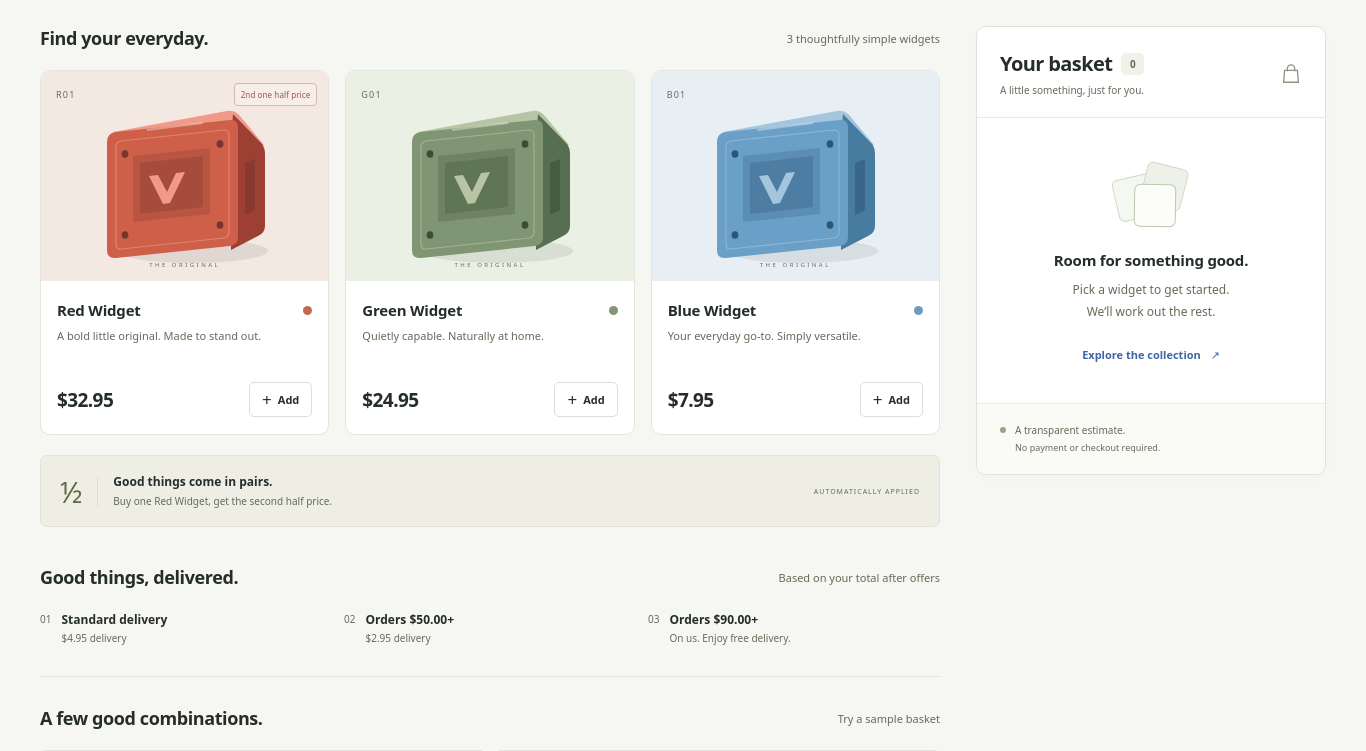
storefront › decreases quantities, removes one item, and clears the basket
(page scrolled)
Expected: the heading "Find your everyday." is shown, [40, 26, 208, 50]
Click the button with aria-label "Add Red Widget to basket" at point(281, 400), box [249, 382, 312, 417]
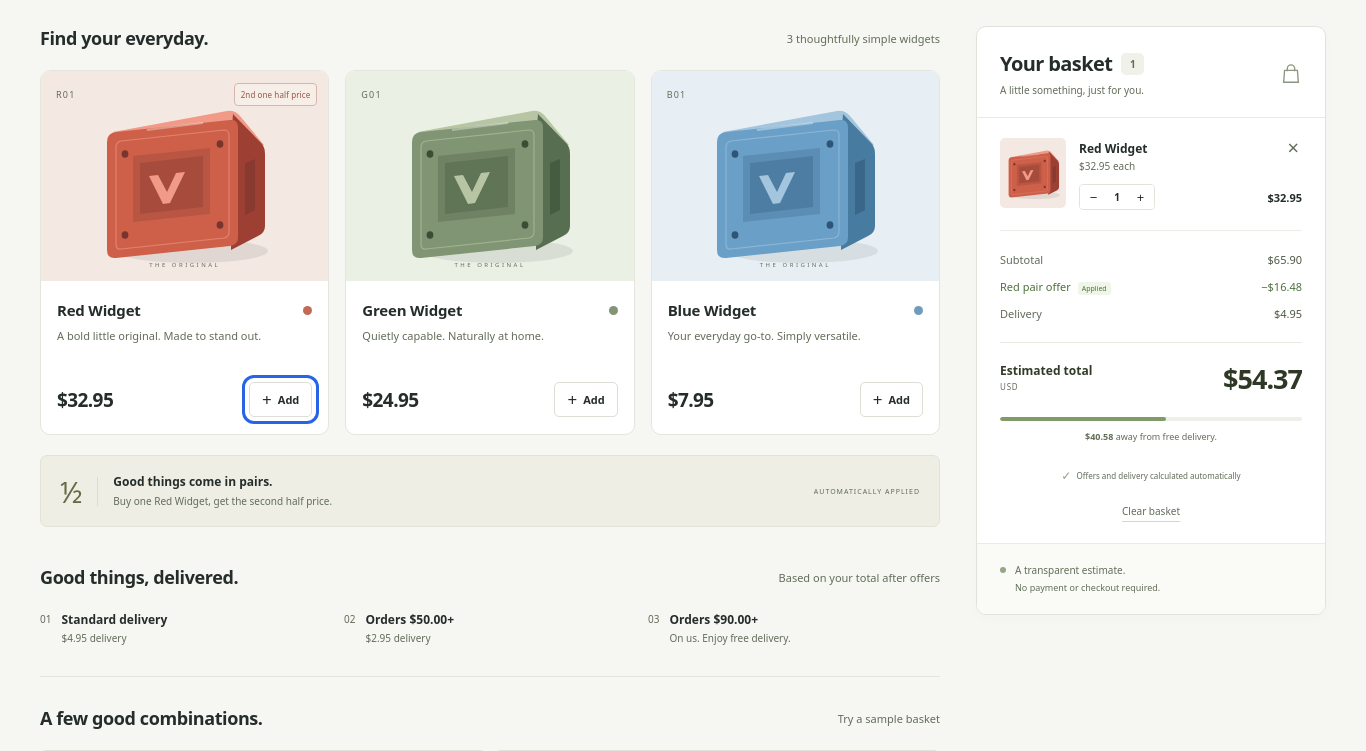
Click the button with aria-label "Add Green Widget to basket" at point(586, 400), box [554, 382, 618, 417]
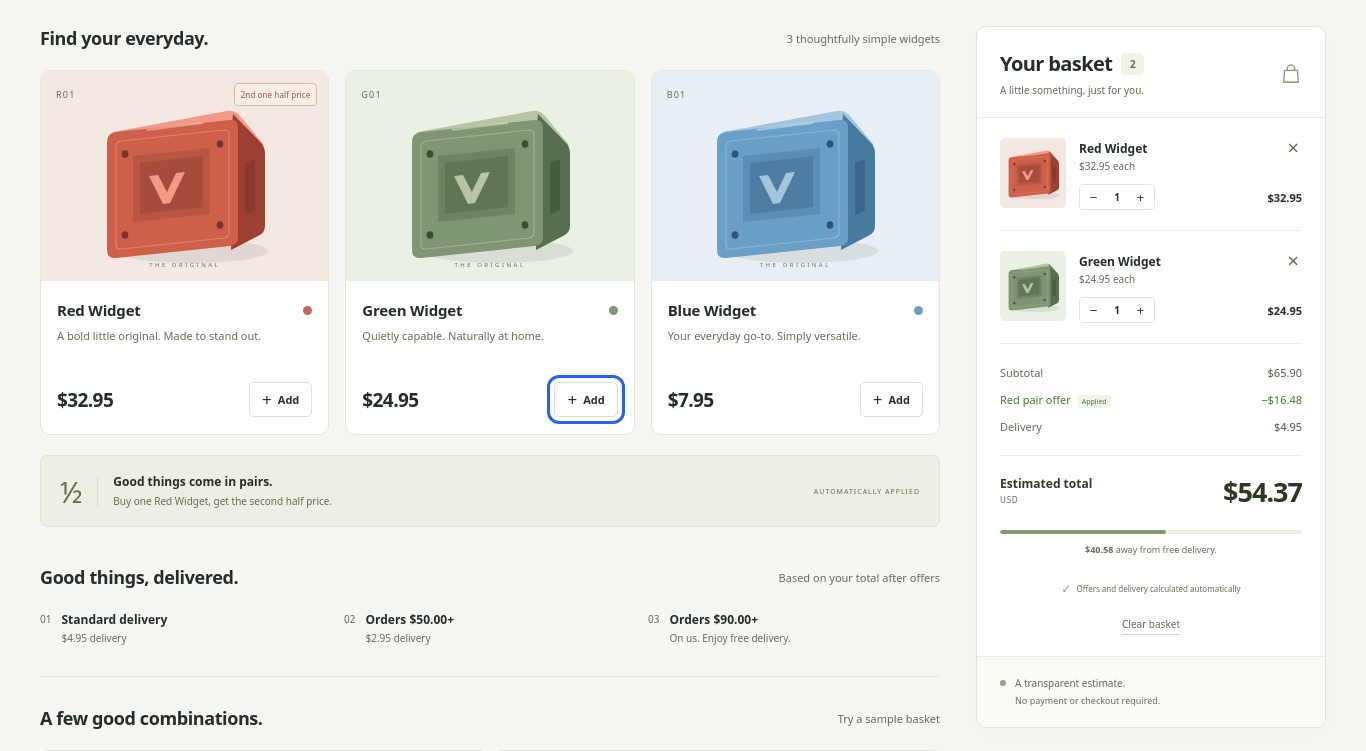
Click the button named "Increase Red Widget quantity" at point(1140, 197), box [1127, 184, 1154, 210]
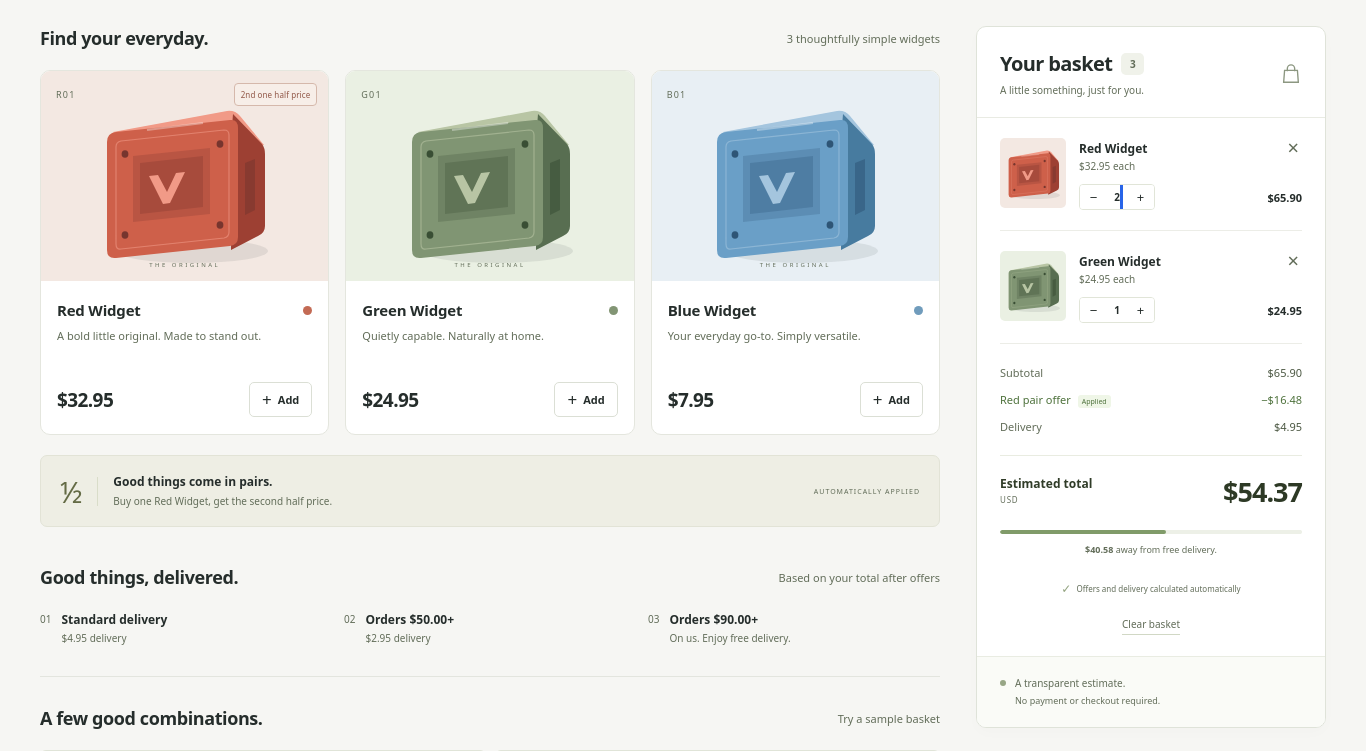
Click the button named "Decrease Red Widget quantity" at point(1094, 197), box [1080, 184, 1107, 210]
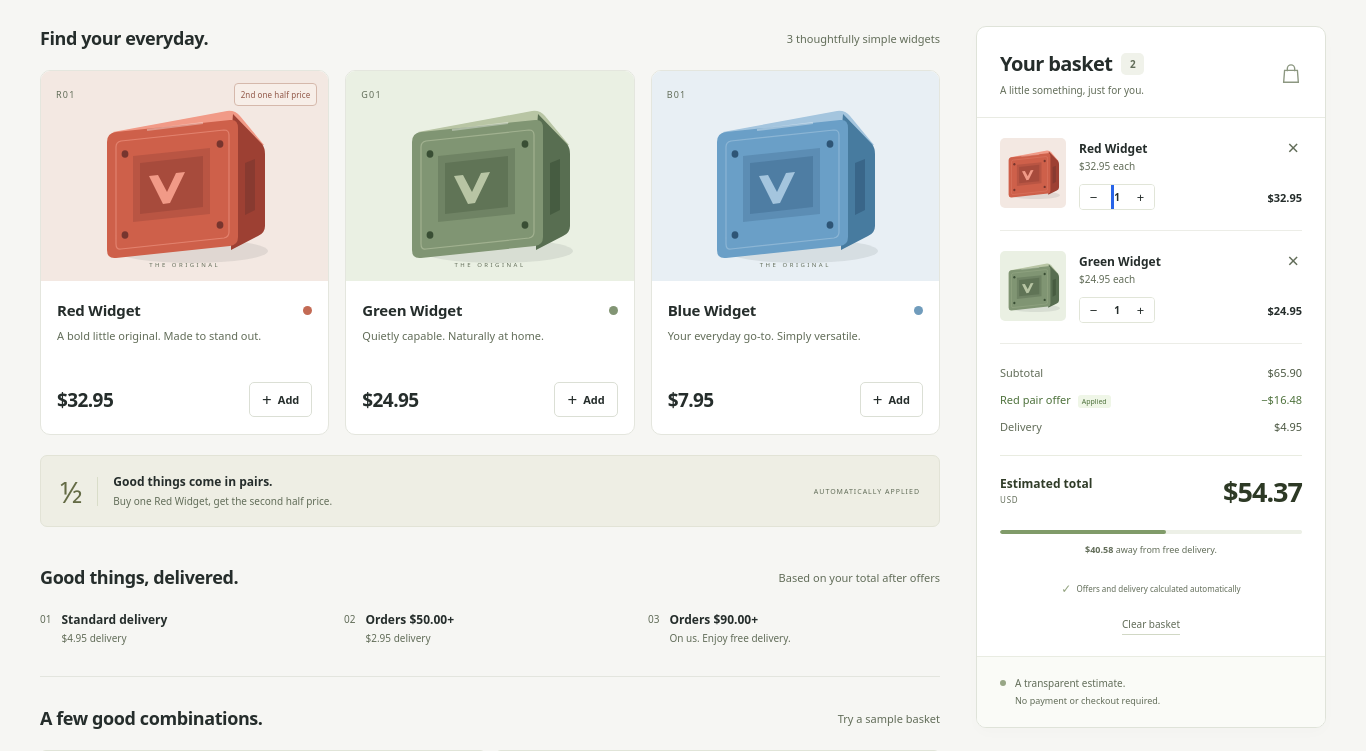
Expected: the text named "Red Widget quantity" reads "1", [1114, 190, 1120, 204]
Click the button named "Remove Red Widget" at point(1293, 148), box [1284, 138, 1302, 158]
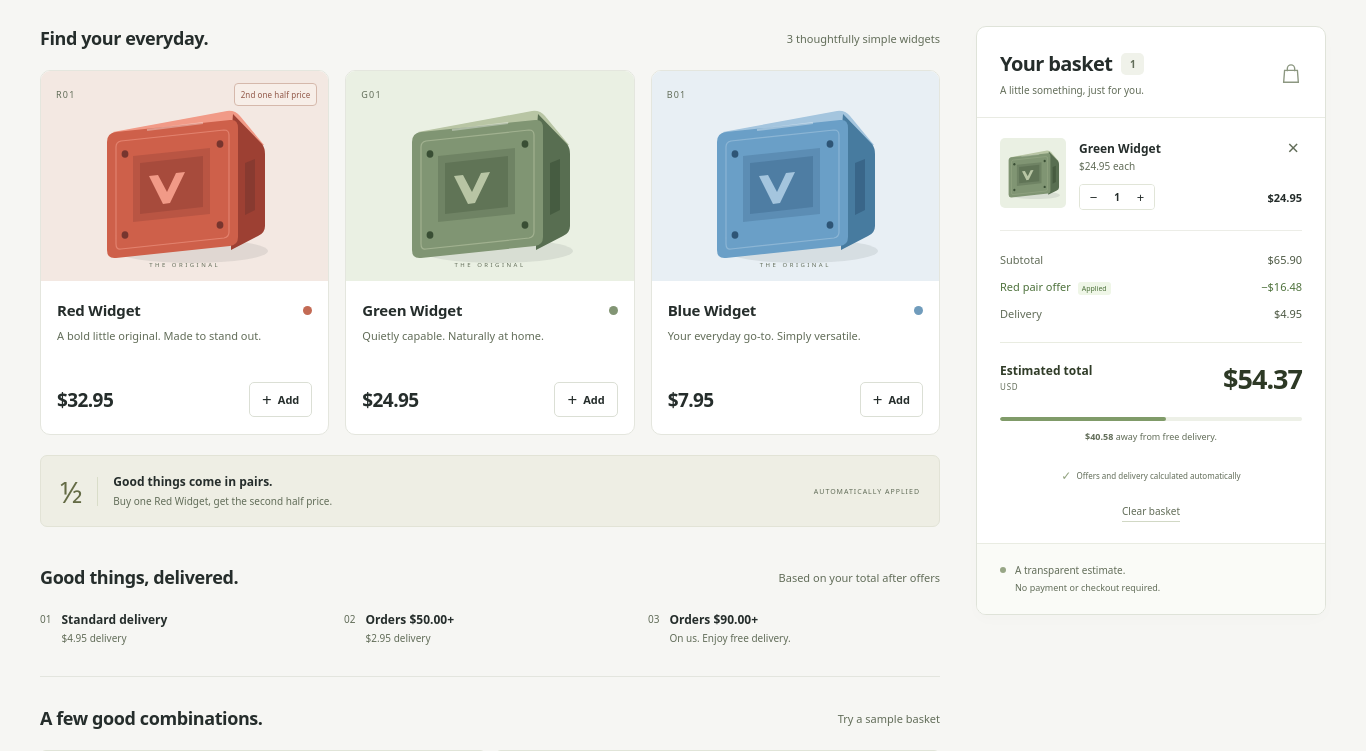
Expected: the text named "Green Widget quantity" reads "1", [1114, 190, 1120, 204]
Click the button "Clear basket" at point(1151, 513), box [1122, 503, 1180, 522]
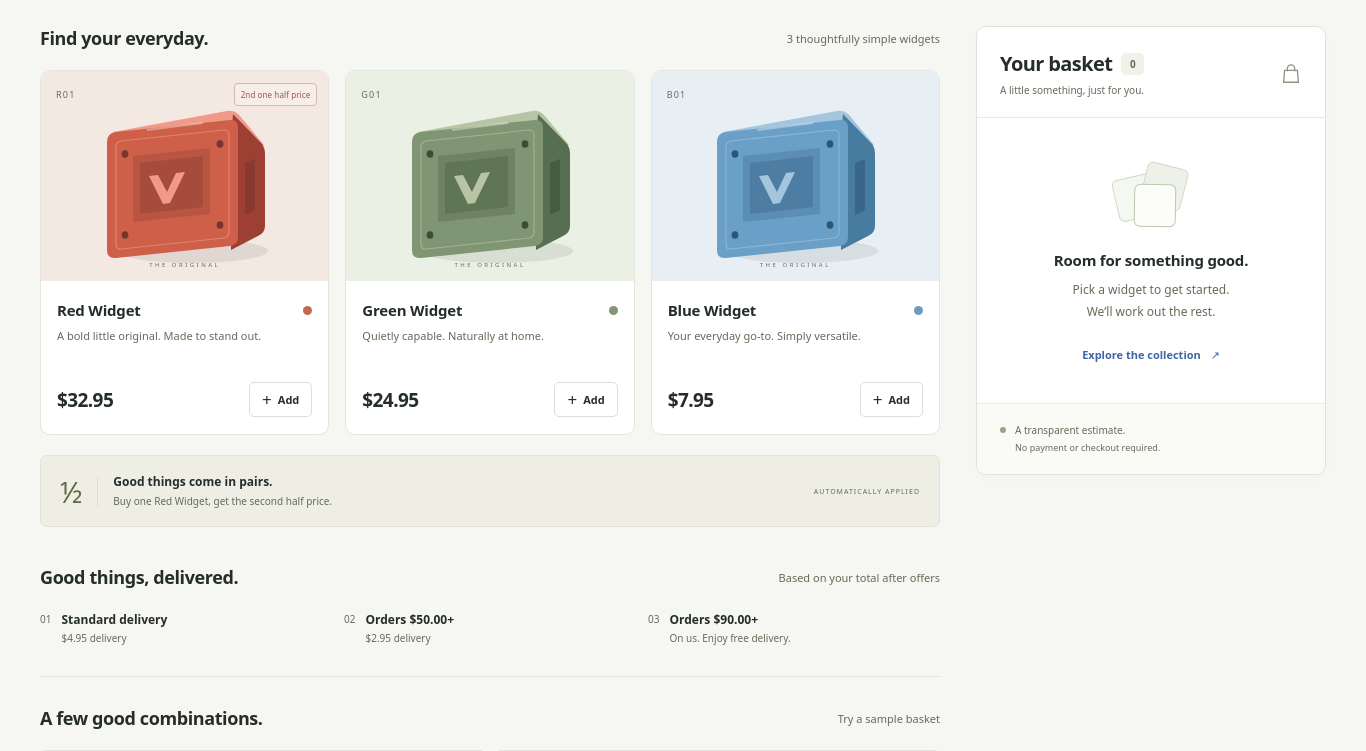
Expected: the heading "Room for something good." is shown, [1054, 250, 1248, 270]
Expected: the text with test id "quote-total" is gone
